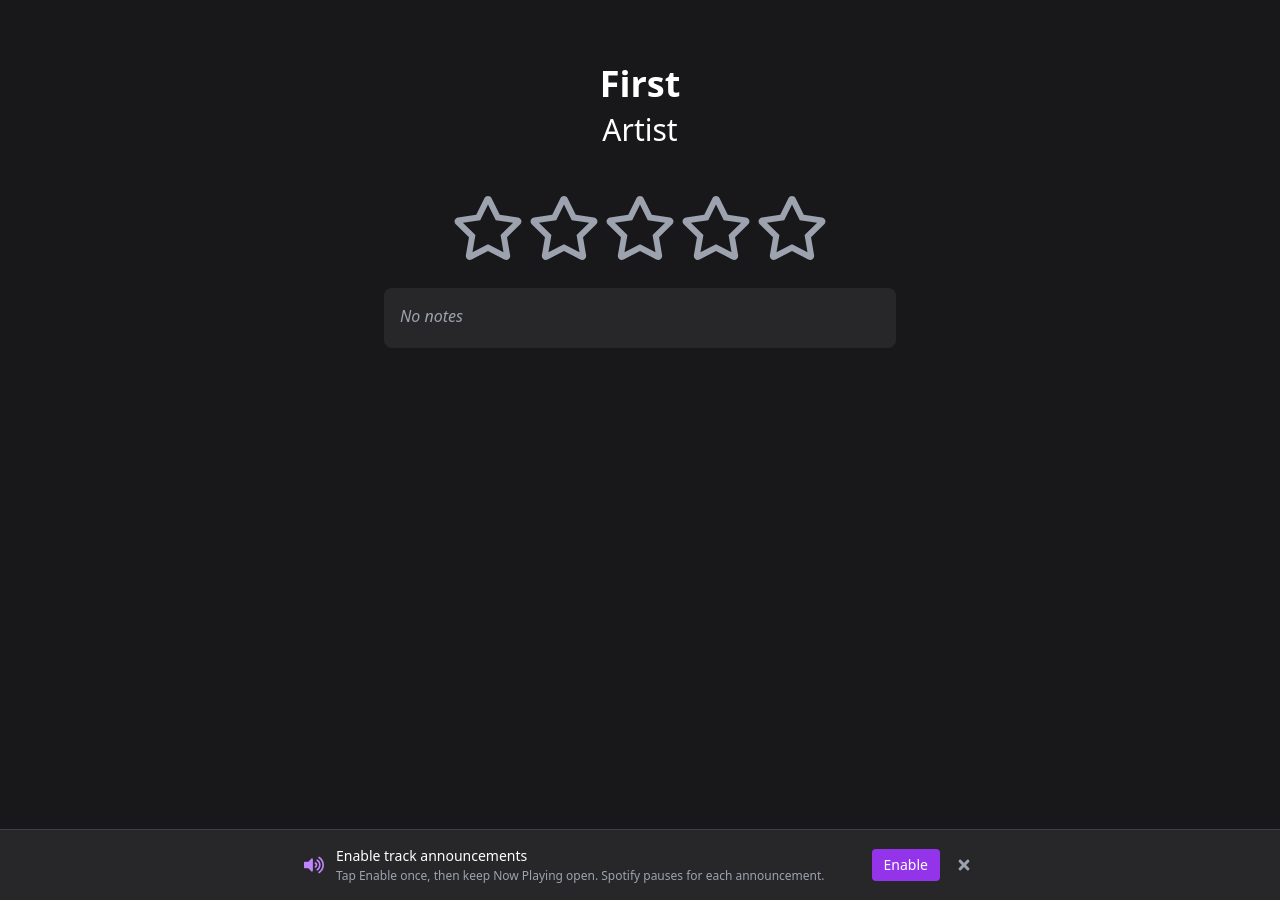
Test: enables speech once through the banner and still announces subsequent tracks
Click the button "Enable": point(906, 865) [872,849,940,881]
Wait 8500 ms
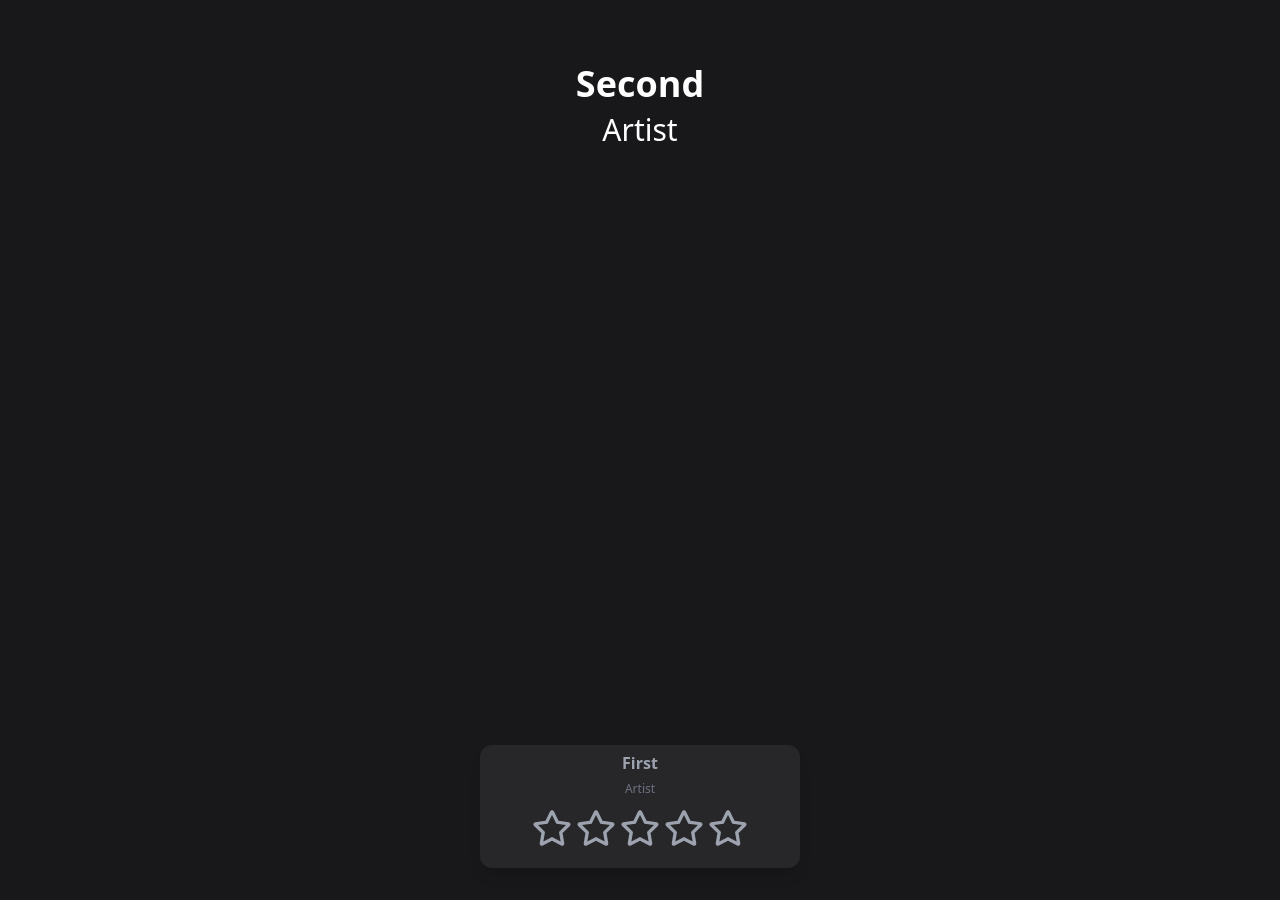
expect the text "Enable" is gone: met
